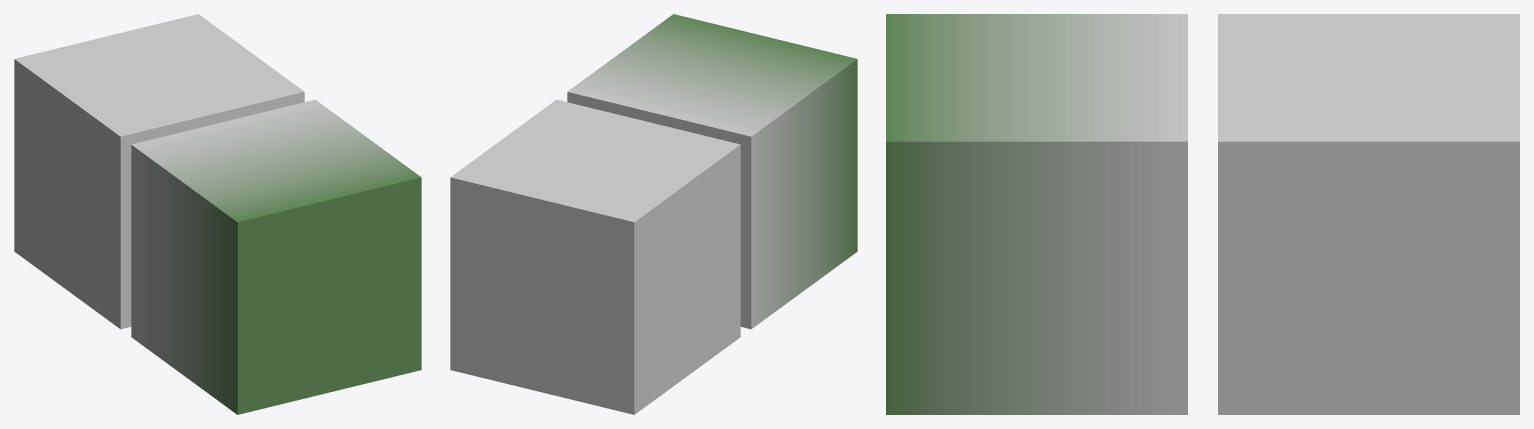
The model's file is TestModel.FBX.
3 views of the same model, side by side, from view 1: azimuth 30°, elevation 25°; view 2: azimuth 150°, elevation 25°; view 3: azimuth 270°, elevation 25° (orthographic). The views are drawn at different scales.
Visible parts, largest first — view 1: model02(color), model01; view 2: model01, model02(color); view 3: model01, model02(color).
Boxes of the visible parts, <box> form: model02(color): <box>131,99,421,414</box>; model01: <box>14,14,304,329</box>; model01: <box>450,99,740,414</box>; model02(color): <box>567,14,857,329</box>; model01: <box>1218,14,1519,414</box>; model02(color): <box>886,14,1187,414</box>.
Size of the model in its own units: 100 by 100 by 210.
